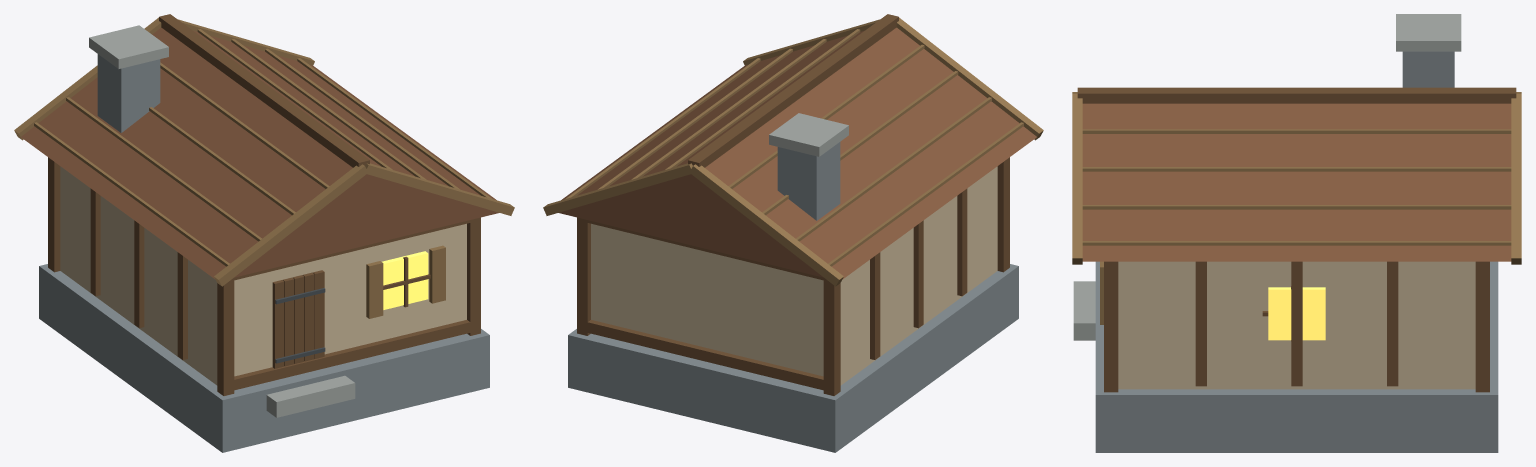
File: cottage.glb
The picture shows the model from 3 angles, left to right: view 1: azimuth 30°, elevation 25°; view 2: azimuth 150°, elevation 25°; view 3: azimuth 270°, elevation 25°; orthographic projection. The views are drawn at different scales.
Parts seen in each view (by area): view 1: cottage; view 2: cottage; view 3: cottage.
Part boxes in pixels (x1,y1,x2,y2): cottage: (14, 14, 514, 452); cottage: (543, 14, 1043, 452); cottage: (1072, 14, 1521, 452).
Bounding box in the file's own units: 4.71 × 4.34 × 5.63.
